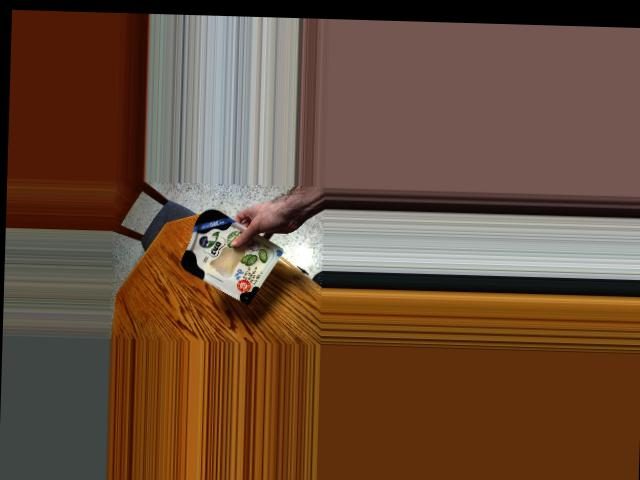cheese: (182, 210, 272, 299)
